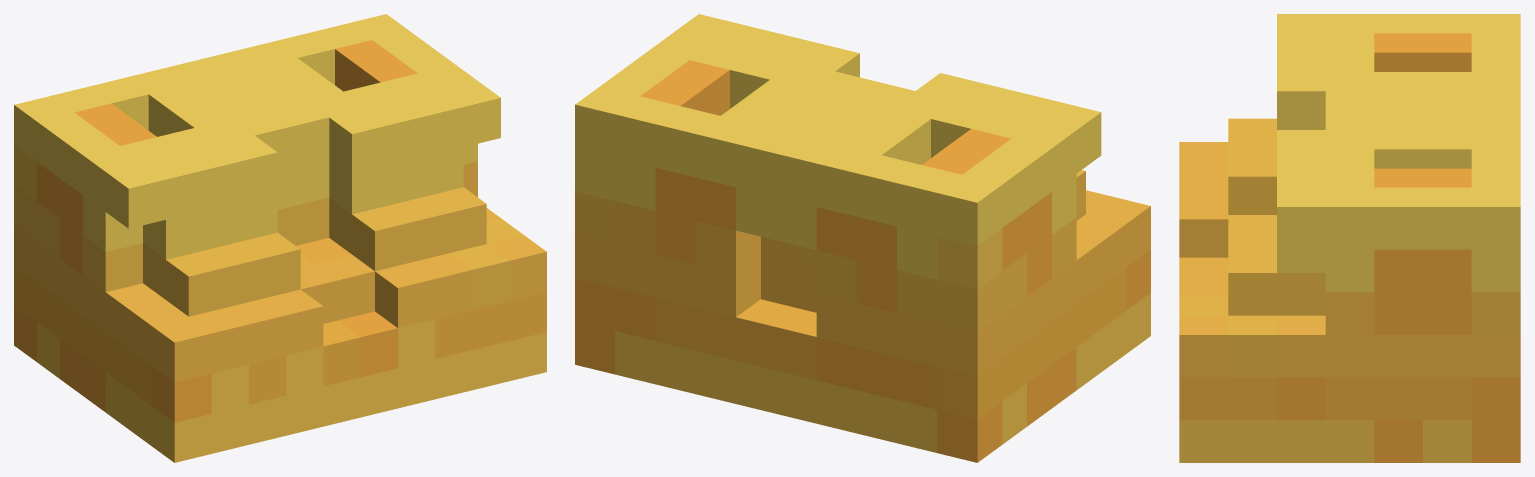
The model's file is boots-isa-lousberg_7XCvej7wZU-blocky.glb.
3 renders of one model, left to right at view 1: azimuth 30°, elevation 25°; view 2: azimuth 150°, elevation 25°; view 3: azimuth 270°, elevation 25°, orthographic. The views are drawn at different scales.
Visible parts, largest first — view 1: boots; view 2: boots; view 3: boots.
Part boxes in pixels (x1=…): boots: x1=14, y1=14, x2=546, y2=462; boots: x1=575, y1=14, x2=1150, y2=462; boots: x1=1179, y1=14, x2=1520, y2=462.
Bounding box in the file's own units: 0.9505 × 0.5872 × 0.7092.
Materials: 1 (1 with a texture image).
